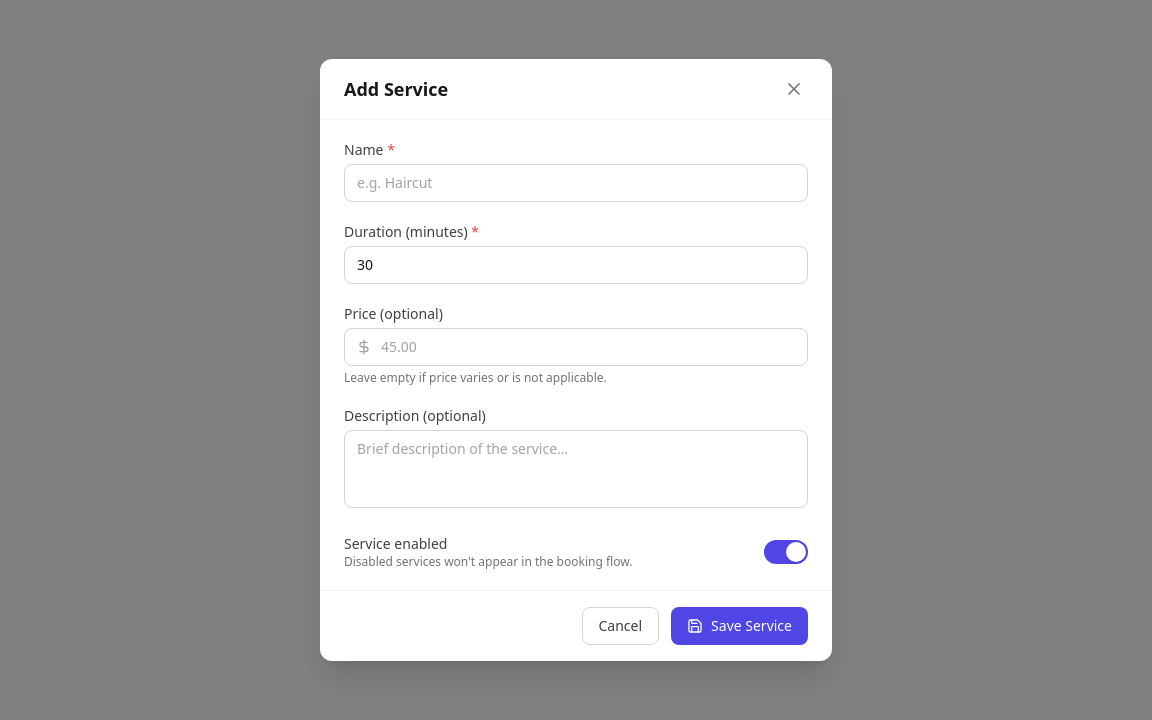
Test case: ServiceForm › shows validation error when name is submitted empty
Click the button "Save Service" at (740, 626), box [671,607,808,645]
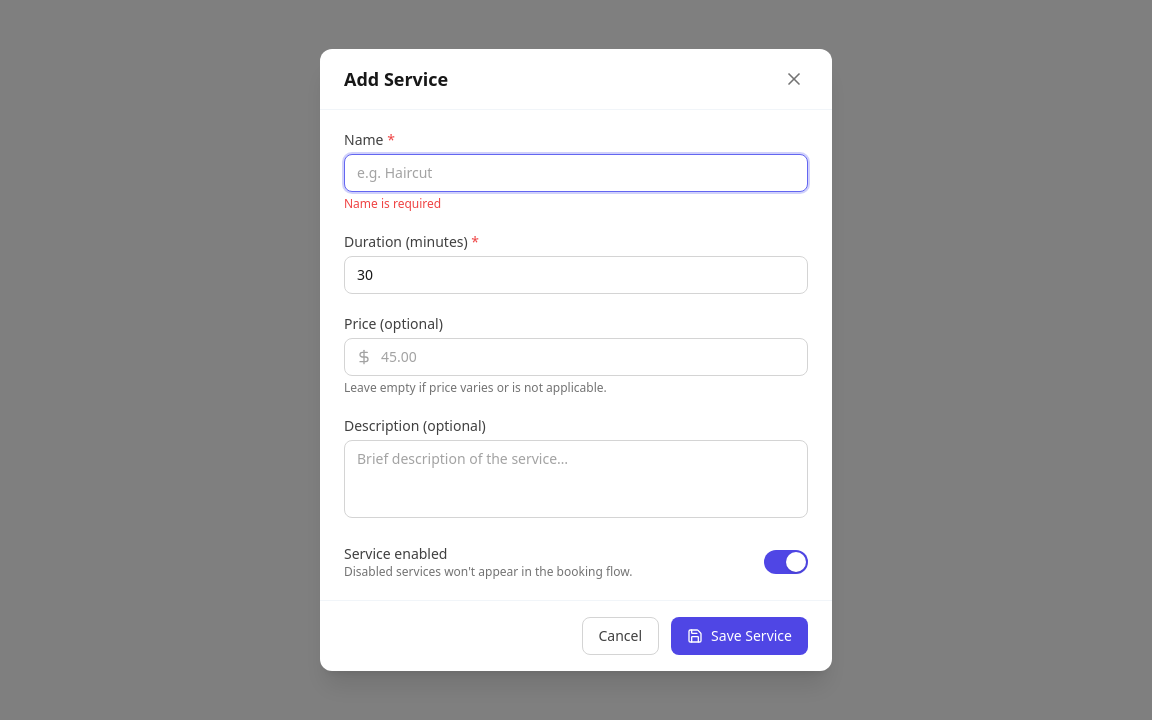
Check: the text "Name is required" is shown, box [344,195,441,212]
